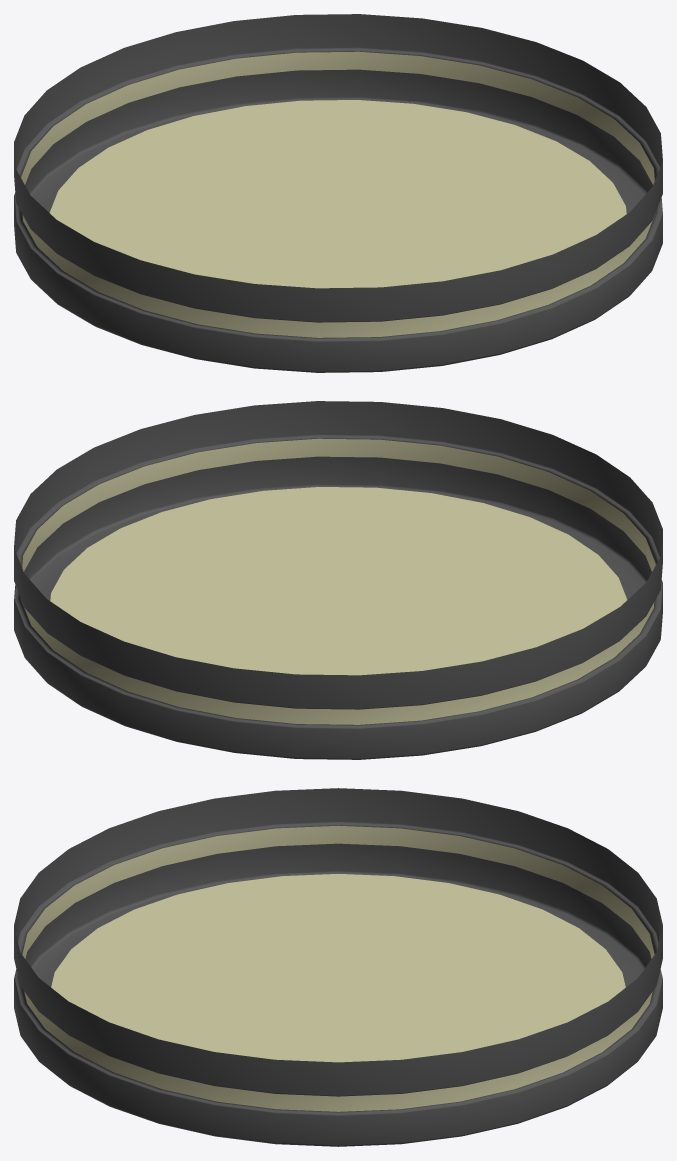
File: BathLamp.fbx
3 renders of one model, top to bottom at view 1: azimuth 30°, elevation 25°; view 2: azimuth 150°, elevation 25°; view 3: azimuth 270°, elevation 25°, orthographic.
Parts seen in each view (by area): view 1: lamp_01; view 2: lamp_01; view 3: lamp_01.
Part boxes in pixels (x1,y1,x2,y2): lamp_01: (14,14,662,372); lamp_01: (14,401,662,759); lamp_01: (14,788,662,1146).
Size of the model in its own units: 0.4 by 0.0581 by 0.4.
